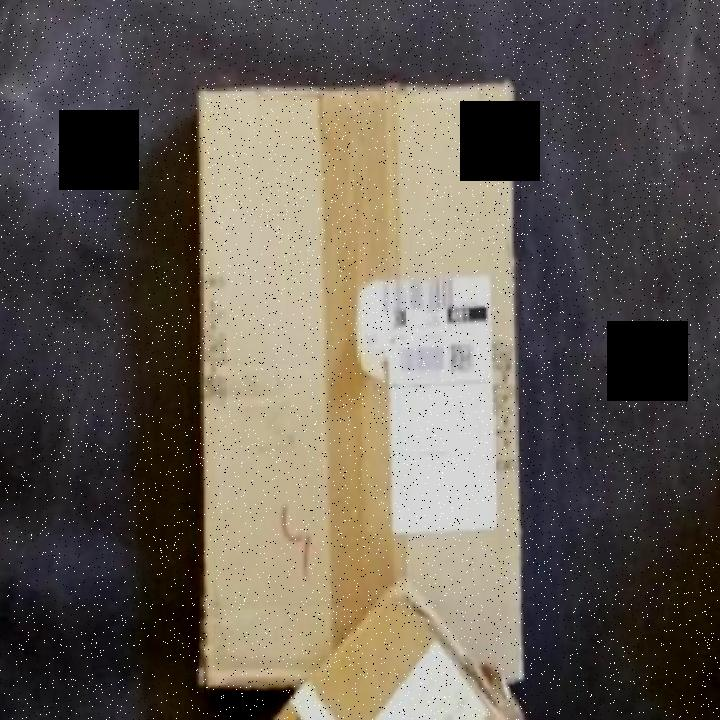box: (178, 73, 536, 719)
